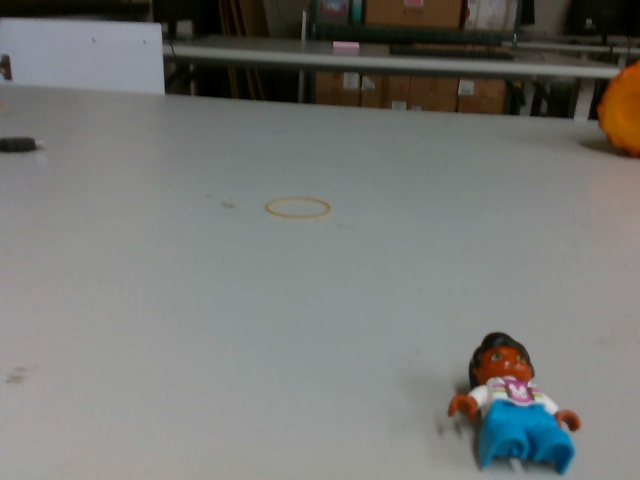people: (445, 327, 591, 476)
